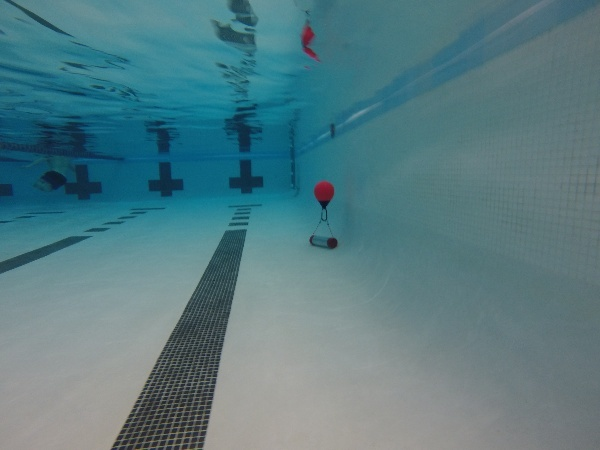buoy_red: (311, 180, 336, 209)
